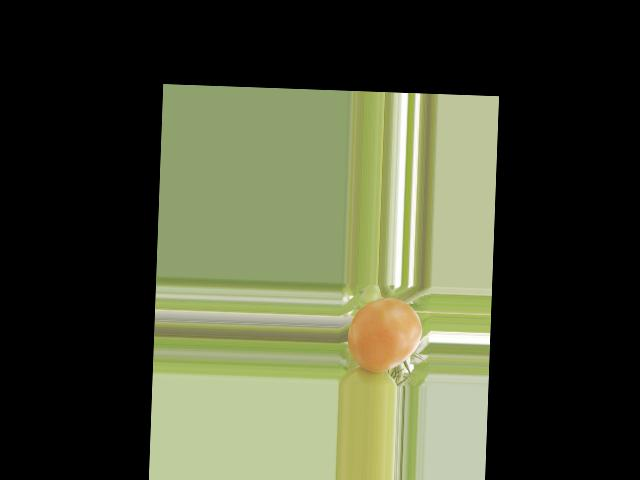tomato: (346, 296, 423, 374)
